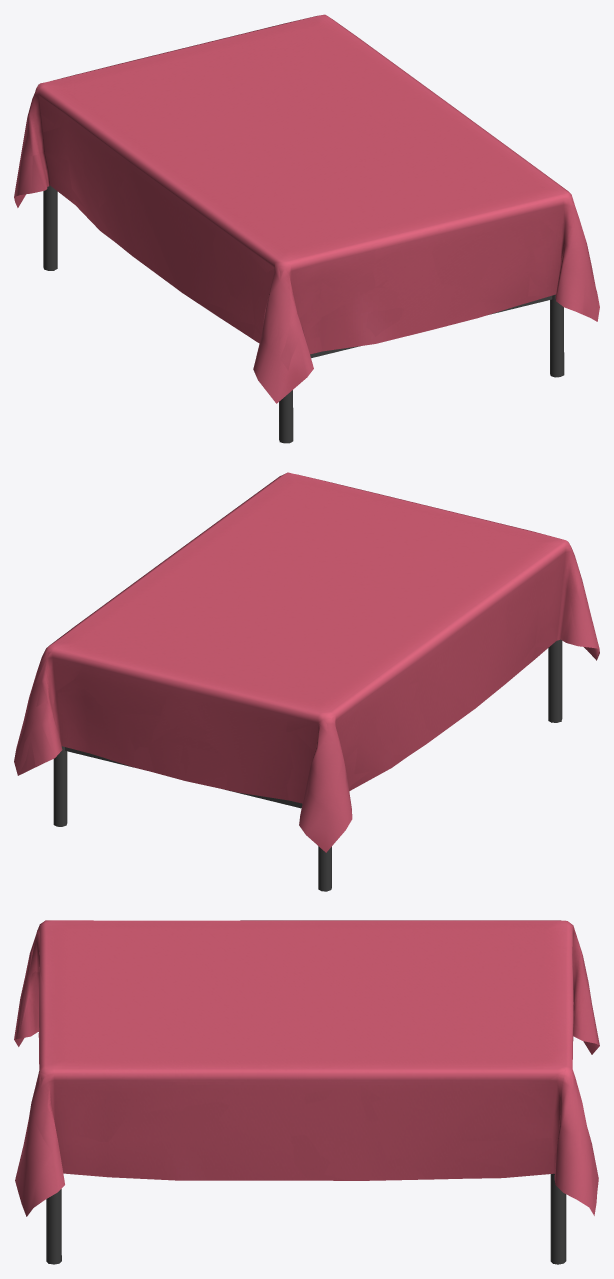
The model's file is pi_tabel01_05_06.gltf.
The picture shows the model from 3 angles, top to bottom: view 1: azimuth 30°, elevation 25°; view 2: azimuth 150°, elevation 25°; view 3: azimuth 270°, elevation 25°; orthographic projection. The views are drawn at different scales.
Visible parts, largest first — view 1: um_pi_tabel01_05_06_model_lod2Shape:pi_tabel01_cloth01_01_02, um_pi_tabel01_05_06_model_lod0Shape:pi_tabel01_cloth01_01_02, um_pi_tabel01_05_06_model_lod1Shape:pi_tabel01_cloth01_01_02, um_pi_tabel01_05_06_model_lod0Shape:pi_tabel01_01, um_pi_tabel01_05_06_model_lod2Shape:pi_tabel01_01, um_pi_tabel01_05_06_model_lod1Shape:pi_tabel01_01; view 2: um_pi_tabel01_05_06_model_lod0Shape:pi_tabel01_cloth01_01_02, um_pi_tabel01_05_06_model_lod2Shape:pi_tabel01_cloth01_01_02, um_pi_tabel01_05_06_model_lod1Shape:pi_tabel01_cloth01_01_02, um_pi_tabel01_05_06_model_lod0Shape:pi_tabel01_01, um_pi_tabel01_05_06_model_lod2Shape:pi_tabel01_01, um_pi_tabel01_05_06_model_lod1Shape:pi_tabel01_01; view 3: um_pi_tabel01_05_06_model_lod2Shape:pi_tabel01_cloth01_01_02, um_pi_tabel01_05_06_model_lod0Shape:pi_tabel01_cloth01_01_02, um_pi_tabel01_05_06_model_lod1Shape:pi_tabel01_cloth01_01_02, um_pi_tabel01_05_06_model_lod1Shape:pi_tabel01_01, um_pi_tabel01_05_06_model_lod2Shape:pi_tabel01_01, um_pi_tabel01_05_06_model_lod0Shape:pi_tabel01_01.
Boxes of the visible parts, box(x1,y1,x2,y2) form: um_pi_tabel01_05_06_model_lod2Shape:pi_tabel01_cloth01_01_02: box(14, 14, 599, 403); um_pi_tabel01_05_06_model_lod0Shape:pi_tabel01_cloth01_01_02: box(14, 16, 595, 403); um_pi_tabel01_05_06_model_lod1Shape:pi_tabel01_cloth01_01_02: box(23, 17, 588, 351); um_pi_tabel01_05_06_model_lod0Shape:pi_tabel01_01: box(43, 187, 560, 443); um_pi_tabel01_05_06_model_lod2Shape:pi_tabel01_01: box(43, 185, 564, 443); um_pi_tabel01_05_06_model_lod1Shape:pi_tabel01_01: box(43, 187, 563, 441); um_pi_tabel01_05_06_model_lod0Shape:pi_tabel01_cloth01_01_02: box(14, 472, 599, 852); um_pi_tabel01_05_06_model_lod2Shape:pi_tabel01_cloth01_01_02: box(14, 472, 599, 852); um_pi_tabel01_05_06_model_lod1Shape:pi_tabel01_cloth01_01_02: box(37, 478, 595, 829); um_pi_tabel01_05_06_model_lod0Shape:pi_tabel01_01: box(54, 639, 562, 891); um_pi_tabel01_05_06_model_lod2Shape:pi_tabel01_01: box(55, 640, 561, 891); um_pi_tabel01_05_06_model_lod1Shape:pi_tabel01_01: box(53, 652, 556, 890); um_pi_tabel01_05_06_model_lod2Shape:pi_tabel01_cloth01_01_02: box(14, 920, 599, 1216); um_pi_tabel01_05_06_model_lod0Shape:pi_tabel01_cloth01_01_02: box(14, 920, 599, 1213); um_pi_tabel01_05_06_model_lod1Shape:pi_tabel01_cloth01_01_02: box(28, 920, 599, 1198); um_pi_tabel01_05_06_model_lod1Shape:pi_tabel01_01: box(46, 1174, 565, 1264); um_pi_tabel01_05_06_model_lod2Shape:pi_tabel01_01: box(47, 1173, 566, 1264); um_pi_tabel01_05_06_model_lod0Shape:pi_tabel01_01: box(46, 1174, 565, 1264).
Bounding box in the file's own units: 1.5 × 0.7608 × 2.06.
Materials: 2 (2 with a texture image).
